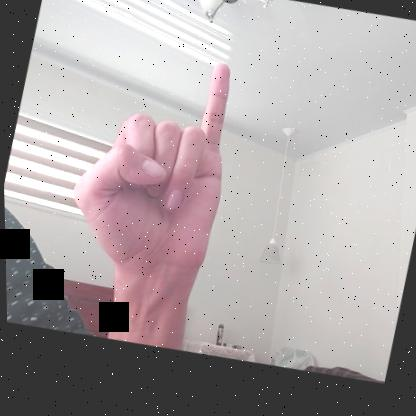I: (55, 38, 252, 290)
